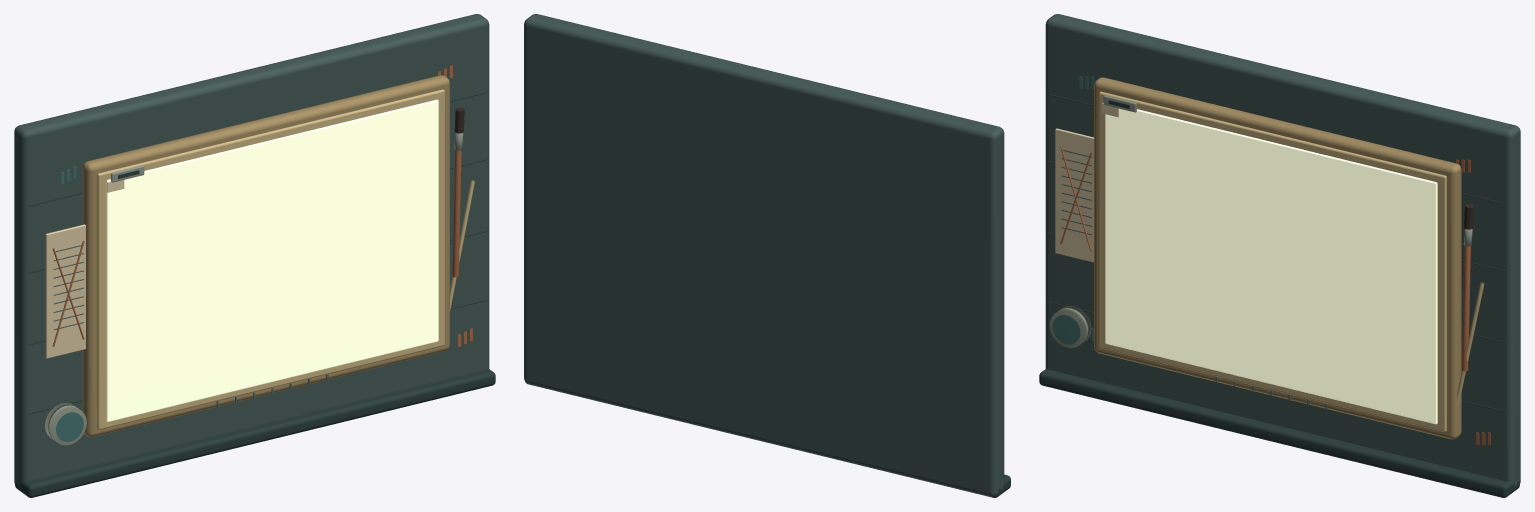
File: workbench.glb
3 renders of one model, left to right at view 1: azimuth 30°, elevation 25°; view 2: azimuth 150°, elevation 25°; view 3: azimuth 330°, elevation 25°, orthographic.
Parts seen in each view (by area): view 1: workbench_Lightbox glass, workbench_Painted table, workbench_Lightbox maple, workbench_Lightbox bevel, workbench_Table edge, workbench_Cotton paper, workbench_Old sienna, workbench_Steel clip, workbench_Old teal, workbench_Blue pencil; view 2: workbench_Painted table; view 3: workbench_Lightbox glass, workbench_Painted table, workbench_Lightbox maple, workbench_Lightbox bevel, workbench_Table edge, workbench_Cotton paper, workbench_Old sienna, workbench_Steel clip, workbench_Old teal, workbench_Blue pencil.
Boxes of the visible parts, x1,y1,x2,y2 form: workbench_Lightbox glass: (106,99,438,421); workbench_Painted table: (14,14,489,486); workbench_Lightbox maple: (82,75,449,437); workbench_Lightbox bevel: (97,89,474,429); workbench_Table edge: (15,92,495,497); workbench_Cotton paper: (45,180,124,358); workbench_Old sienna: (52,65,472,347); workbench_Steel clip: (45,132,463,445); workbench_Old teal: (56,166,83,441); workbench_Blue pencil: (53,245,441,407); workbench_Painted table: (524,14,1004,496); workbench_Lightbox glass: (1105,108,1437,424); workbench_Painted table: (1045,14,1520,486); workbench_Lightbox maple: (1094,77,1461,439); workbench_Lightbox bevel: (1099,91,1484,431); workbench_Table edge: (1039,94,1519,497); workbench_Cotton paper: (1055,102,1118,262); workbench_Old sienna: (1060,146,1490,445); workbench_Steel clip: (1049,95,1472,348); workbench_Old teal: (1052,76,1094,344); workbench_Blue pencil: (1061,150,1450,439).
Bounding box in the file's own units: 5.12 × 3.79 × 0.5.
